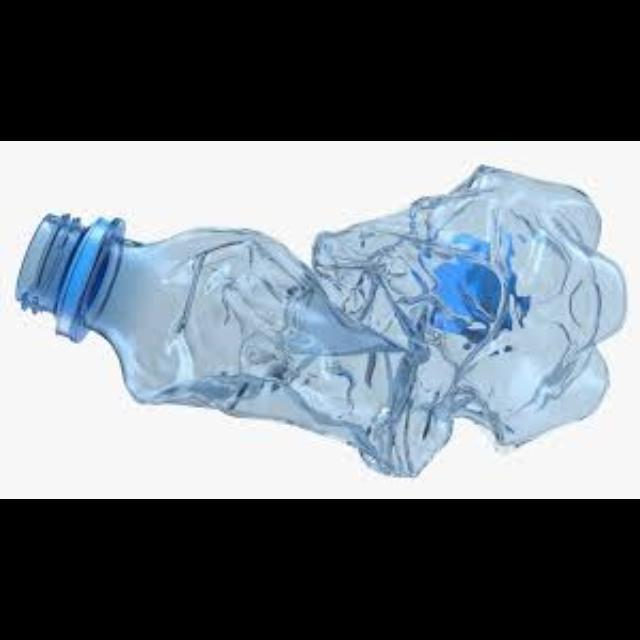trash: (19, 161, 621, 479)
